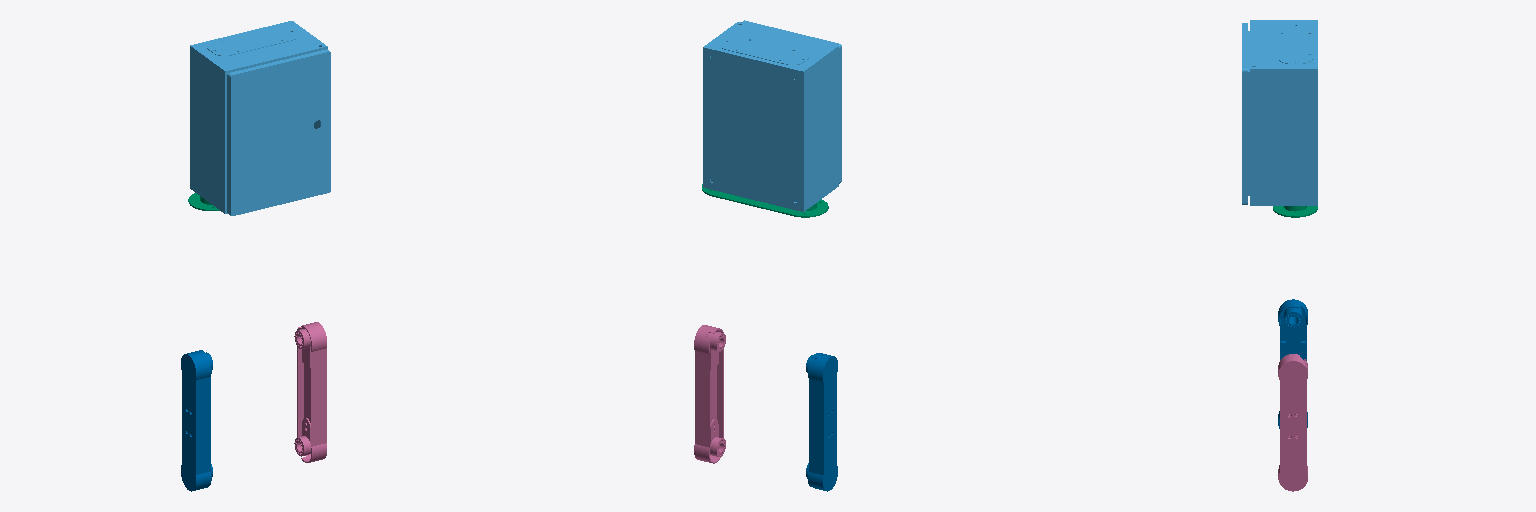
URDF robot description (robot):
<?xml version='1.0' encoding='utf-8'?>
<robot name="robot">
    <link name="imu_link">
        <inertial>
            <origin xyz="-1.5026528643602432e-09 9.498352104841956e-10 1.0161999197677574e-09" rpy="0 0 0" />
            <mass value="4.0212385965949355e-08" />
            <inertia ixx="6.433981754576942e-14" iyy="6.433981754628641e-14" izz="6.43398175467e-14" ixy="-5.169878828456423e-26" iyz="6.462348535569894e-27" ixz="-2.0313346132562858e-29" />
        </inertial>
        <visual name="imu_link_visual">
            <origin xyz="-0.03699100341761863 0.24384999549936293 -0.007599998813926423" rpy="1.5707963267948952 1.5707963267948948 0" />
            <geometry>
                <mesh filename="meshes/imu_link.stl" scale="0.001 0.001 0.001" />
            </geometry>
        </visual>
        <collision name="imu_link_collision">
            <origin xyz="-0.03699100341761863 0.24384999549936293 -0.007599998813926423" rpy="1.5707963267948952 1.5707963267948948 0" />
            <geometry>
                <mesh filename="meshes/imu_link.stl" scale="0.001 0.001 0.001" />
            </geometry>
        </collision>
    </link>
    <link name="torso_link">
        <inertial>
            <origin xyz="0.01593222156183444 -3.145450797484451e-05 0.20663353936107798" rpy="0 0 0" />
            <mass value="11.977159824591427" />
            <inertia ixx="0.24915534005794093" iyy="0.21206568686277028" izz="0.1485094454191971" ixy="0.0016001862485177179" iyz="0.007735516153497295" ixz="0.00012734147855406172" />
        </inertial>
        <visual name="torso_link_visual">
            <origin xyz="-0.06119999999684114 0.25000000191496574 0.000900000000000174" rpy="1.5707963267948968 0 1.5707963267948972" />
            <geometry>
                <mesh filename="meshes/torso_link.stl" scale="0.001 0.001 0.001" />
            </geometry>
        </visual>
        <collision name="torso_link_collision">
            <origin xyz="-0.06119999999684114 0.25000000191496574 0.000900000000000174" rpy="1.5707963267948968 0 1.5707963267948972" />
            <geometry>
                <mesh filename="meshes/torso_link.stl" scale="0.001 0.001 0.001" />
            </geometry>
        </collision>
    </link>
    <link name="pelvis_link">
        <inertial>
            <origin xyz="1.1402650899611848e-10 2.026382982335143e-06 0.0012389964670407039" rpy="0 0 0" />
            <mass value="0.6794274689016202" />
            <inertia ixx="0.0005817195626032596" iyy="0.005653686551697903" izz="0.006193908913931396" ixy="3.946391888010182e-13" iyz="-8.620055385539157e-09" ixz="-4.724706015143538e-13" />
        </inertial>
        <visual name="pelvis_link_visual">
            <origin xyz="0 0 0" rpy="0 0 0" />
            <geometry>
                <mesh filename="meshes/pelvis_link.stl" scale="0.001 0.001 0.001" />
            </geometry>
        </visual>
        <collision name="pelvis_link_collision">
            <origin xyz="0 0 0" rpy="0 0 0" />
            <geometry>
                <mesh filename="meshes/pelvis_link.stl" scale="0.001 0.001 0.001" />
            </geometry>
        </collision>
    </link>
    <link name="l_hip_yaw_link">
        <inertial>
            <origin xyz="-0.00047456822681581523 -0.06506879079027197 0.06050685449757705" rpy="0 0 0" />
            <mass value="4.59759043690152" />
            <inertia ixx="0.02748894534138005" iyy="0.020589110397838364" izz="0.01702790581395454" ixy="5.645423529085669e-05" iyz="0.005720242363571582" ixz="5.5156311640644055e-05" />
        </inertial>
        <visual name="l_hip_yaw_link_visual">
            <origin xyz="3.0660106012461938e-12 -7.660059253566943e-12 0" rpy="3.1415926535897873 0 1.5707963267948961" />
            <geometry>
                <mesh filename="meshes/l_hip_yaw_link.stl" scale="0.001 0.001 0.001" />
            </geometry>
        </visual>
        <collision name="l_hip_yaw_link_collision">
            <origin xyz="3.0660106012461938e-12 -7.660059253566943e-12 0" rpy="3.1415926535897873 0 1.5707963267948961" />
            <geometry>
                <mesh filename="meshes/l_hip_yaw_link.stl" scale="0.001 0.001 0.001" />
            </geometry>
        </collision>
    </link>
    <link name="l_hip_pitch_link">
        <inertial>
            <origin xyz="0.0001750845152306013 0.07153092438325942 -0.021963910412087787" rpy="0 0 0" />
            <mass value="1.5694234274454537" />
            <inertia ixx="0.00224102636839427" iyy="0.0021147367229131867" izz="0.0033828520167634435" ixy="1.6624394674012027e-05" iyz="5.0051102438439566e-05" ixz="1.2029026855222516e-05" />
        </inertial>
        <visual name="l_hip_pitch_link_visual">
            <origin xyz="0 -2.2567192559108663e-11 1.7907776858508836e-11" rpy="-1.570796326794916 0 3.141592653589793" />
            <geometry>
                <mesh filename="meshes/l_hip_pitch_link.stl" scale="0.001 0.001 0.001" />
            </geometry>
        </visual>
        <collision name="l_hip_pitch_link_collision">
            <origin xyz="0 -2.2567192559108663e-11 1.7907776858508836e-11" rpy="-1.570796326794916 0 3.141592653589793" />
            <geometry>
                <mesh filename="meshes/l_hip_pitch_link.stl" scale="0.001 0.001 0.001" />
            </geometry>
        </collision>
    </link>
    <link name="l_thigh_link">
        <inertial>
            <origin xyz="0.012553709214825308 -0.23291562098985508 0.010916161389551907" rpy="0 0 0" />
            <mass value="2.369372553481698" />
            <inertia ixx="0.025084390179226923" iyy="0.002698008734614607" izz="0.026397284292302814" ixy="-0.0023958564512892525" iyz="0.00013543868353942167" ixz="6.514120145757125e-06" />
        </inertial>
        <visual name="l_thigh_link_visual">
            <origin xyz="0.003999999988222269 0 3.807370276831534e-09" rpy="1.5707963267948966 0 1.5707963267949099" />
            <geometry>
                <mesh filename="meshes/l_thigh_link.stl" scale="0.001 0.001 0.001" />
            </geometry>
        </visual>
        <collision name="l_thigh_link_collision">
            <origin xyz="0.003999999988222269 0 3.807370276831534e-09" rpy="1.5707963267948966 0 1.5707963267949099" />
            <geometry>
                <mesh filename="meshes/l_thigh_link.stl" scale="0.001 0.001 0.001" />
            </geometry>
        </collision>
    </link>
    <link name="l_shank_link">
        <inertial>
            <origin xyz="0.00026146220509067785 -0.15088709692723135 -0.03709591562452564" rpy="0 0 0" />
            <mass value="1.096633510267543" />
            <inertia ixx="0.010155164112291393" iyy="0.0004785159565456748" izz="0.010305891816942137" ixy="3.838883513556952e-06" iyz="-2.3899250245208547e-05" ixz="1.1489190133089684e-06" />
        </inertial>
        <visual name="l_shank_link_visual">
            <origin xyz="-1.1777419040015502e-11 0 3.616717130228153e-09" rpy="3.141592653589643 0 1.5707963267948968" />
            <geometry>
                <mesh filename="meshes/l_shank_link.stl" scale="0.001 0.001 0.001" />
            </geometry>
        </visual>
        <collision name="l_shank_link_collision">
            <origin xyz="-1.1777419040015502e-11 0 3.616717130228153e-09" rpy="3.141592653589643 0 1.5707963267948968" />
            <geometry>
                <mesh filename="meshes/l_shank_link.stl" scale="0.001 0.001 0.001" />
            </geometry>
        </collision>
    </link>
    <link name="l_ankle_link">
        <inertial>
            <origin xyz="0.0027808433286506213 0.023304363058726345 -0.0001717188189263652" rpy="0 0 0" />
            <mass value="1.5821847782034173" />
            <inertia ixx="0.0021288819653358937" iyy="0.0034820066103026237" izz="0.0023408328144144674" ixy="5.000866856317166e-05" iyz="1.2046304114304883e-05" ixz="-1.8271438666140506e-05" />
        </inertial>
        <visual name="l_ankle_link_visual">
            <origin xyz="0.07402716563147126 0.00900000361667887 3.742988451506335e-05" rpy="0 -1.5707963267947658 0" />
            <geometry>
                <mesh filename="meshes/l_ankle_link.stl" scale="0.001 0.001 0.001" />
            </geometry>
        </visual>
        <collision name="l_ankle_link_collision">
            <origin xyz="0.07402716563147126 0.00900000361667887 3.742988451506335e-05" rpy="0 -1.5707963267947658 0" />
            <geometry>
                <mesh filename="meshes/l_ankle_link.stl" scale="0.001 0.001 0.001" />
            </geometry>
        </collision>
    </link>
    <link name="l_foot_link">
        <inertial>
            <origin xyz="0.013580536543132888 0.0005512383333787874 0.016498509460245715" rpy="0 0 0" />
            <mass value="1.9784795442649168" />
            <inertia ixx="0.005536557019526711" iyy="0.006565687681847621" izz="0.005425303439420534" ixy="-6.310050487873506e-06" iyz="3.543231174644346e-05" ixz="0.0011191734839326715" />
        </inertial>
        <visual name="l_foot_link_visual">
            <origin xyz="0.00019999563147128364 3.616678903028969e-09 -1.1548493716873054e-10" rpy="1.5707963267948957 0 -1.570796326794889" />
            <geometry>
                <mesh filename="meshes/l_foot_link.stl" scale="0.001 0.001 0.001" />
            </geometry>
        </visual>
        <collision name="l_foot_link_collision">
            <origin xyz="0.00019999563147128364 3.616678903028969e-09 -1.1548493716873054e-10" rpy="1.5707963267948957 0 -1.570796326794889" />
            <geometry>
                <mesh filename="meshes/l_foot_link.stl" scale="0.001 0.001 0.001" />
            </geometry>
        </collision>
    </link>
    <link name="r_hip_yaw_link">
        <inertial>
            <origin xyz="0.0004745682329473446 0.06506879070310788 0.0605068544975713" rpy="0 0 0" />
            <mass value="4.597590436901953" />
            <inertia ixx="0.027488945309262214" iyy="0.020589110397839276" izz="0.017027905781836702" ixy="5.6454235138418324e-05" iyz="-0.005720242378940415" ixz="-5.515631164040424e-05" />
        </inertial>
        <visual name="r_hip_yaw_link_visual">
            <origin xyz="3.0661233181081187e-12 -7.659224365852424e-12 0" rpy="-3.1415926535897865 0 -1.570796326794897" />
            <geometry>
                <mesh filename="meshes/r_hip_yaw_link.stl" scale="0.001 0.001 0.001" />
            </geometry>
        </visual>
        <collision name="r_hip_yaw_link_collision">
            <origin xyz="3.0661233181081187e-12 -7.659224365852424e-12 0" rpy="-3.1415926535897865 0 -1.570796326794897" />
            <geometry>
                <mesh filename="meshes/r_hip_yaw_link.stl" scale="0.001 0.001 0.001" />
            </geometry>
        </collision>
    </link>
    <link name="r_hip_pitch_link">
        <inertial>
            <origin xyz="0.0001726520246478991 -0.07292043829718715 -0.021963910441858876" rpy="0 0 0" />
            <mass value="1.5694238131593665" />
            <inertia ixx="0.0022531266518003926" iyy="0.002114738320472452" izz="0.003394953837820368" ixy="1.8141175270446758e-05" iyz="-4.1538693559326826e-05" ixz="1.2112879820375563e-05" />
        </inertial>
        <visual name="r_hip_pitch_link_visual">
            <origin xyz="0 7.247997757531266e-12 -1.1777870345675014e-11" rpy="-1.5707963267948841 0 0" />
            <geometry>
                <mesh filename="meshes/r_hip_pitch_link.stl" scale="0.001 0.001 0.001" />
            </geometry>
        </visual>
        <collision name="r_hip_pitch_link_collision">
            <origin xyz="0 7.247997757531266e-12 -1.1777870345675014e-11" rpy="-1.5707963267948841 0 0" />
            <geometry>
                <mesh filename="meshes/r_hip_pitch_link.stl" scale="0.001 0.001 0.001" />
            </geometry>
        </collision>
    </link>
    <link name="r_thigh_link">
        <inertial>
            <origin xyz="0.01163332958878565 -0.23291562099188162 -0.010916161389551711" rpy="0 0 0" />
            <mass value="2.3693725534819126" />
            <inertia ixx="0.025084390180051763" iyy="0.002735488891620081" izz="0.026434764450132986" ixy="-0.002577056099032181" iyz="-0.00013543868358914467" ixz="3.4205982136662436e-06" />
        </inertial>
        <visual name="r_thigh_link_visual">
            <origin xyz="0.003999999988222269 0 -3.807370276831534e-09" rpy="-1.5707963267948966 0 1.5707963267949099" />
            <geometry>
                <mesh filename="meshes/r_thigh_link.stl" scale="0.001 0.001 0.001" />
            </geometry>
        </visual>
        <collision name="r_thigh_link_collision">
            <origin xyz="0.003999999988222269 0 -3.807370276831534e-09" rpy="-1.5707963267948966 0 1.5707963267949099" />
            <geometry>
                <mesh filename="meshes/r_thigh_link.stl" scale="0.001 0.001 0.001" />
            </geometry>
        </collision>
    </link>
    <link name="r_shank_link">
        <inertial>
            <origin xyz="0.00026146220509239983 -0.1508870969272305 0.03709591562452065" rpy="0 0 0" />
            <mass value="1.0966335102675413" />
            <inertia ixx="0.010155164112315707" iyy="0.00047851595652267237" izz="0.010305891816943413" ixy="3.838883513223451e-06" iyz="2.389925024517958e-05" ixz="-1.1489190133404608e-06" />
        </inertial>
        <visual name="r_shank_link_visual">
            <origin xyz="-1.1777419040015502e-11 0 -3.616717130228153e-09" rpy="-3.141592653589643 0 1.5707963267948968" />
            <geometry>
                <mesh filename="meshes/r_shank_link.stl" scale="0.001 0.001 0.001" />
            </geometry>
        </visual>
        <collision name="r_shank_link_collision">
            <origin xyz="-1.1777419040015502e-11 0 -3.616717130228153e-09" rpy="-3.141592653589643 0 1.5707963267948968" />
            <geometry>
                <mesh filename="meshes/r_shank_link.stl" scale="0.001 0.001 0.001" />
            </geometry>
        </collision>
    </link>
    <link name="r_ankle_link">
        <inertial>
            <origin xyz="0.004155641520986955 0.02330436305872695 0.000176119931110037" rpy="0 0 0" />
            <mass value="1.5821847782032865" />
            <inertia ixx="0.0021288797440784935" iyy="0.003466319534321527" izz="0.002325147959690615" ixy="5.8591849147256615e-05" iyz="-1.1993435422907835e-05" ixz="-1.6541073283192516e-05" />
        </inertial>
        <visual name="r_ankle_link_visual">
            <origin xyz="0.07397279406218389 0.009000003616681962 3.74061604505016e-05" rpy="0 1.5707963267948422 0" />
            <geometry>
                <mesh filename="meshes/r_ankle_link.stl" scale="0.001 0.001 0.001" />
            </geometry>
        </visual>
        <collision name="r_ankle_link_collision">
            <origin xyz="0.07397279406218389 0.009000003616681962 3.74061604505016e-05" rpy="0 1.5707963267948422 0" />
            <geometry>
                <mesh filename="meshes/r_ankle_link.stl" scale="0.001 0.001 0.001" />
            </geometry>
        </collision>
    </link>
    <link name="r_foot_link">
        <inertial>
            <origin xyz="0.013583180362856488 -0.0005512311000183346 -0.01650214071706941" rpy="0 0 0" />
            <mass value="1.9784795442649097" />
            <inertia ixx="0.00553720070088648" iyy="0.0065661485027541655" izz="0.005425120578966984" ixy="6.307189630936237e-06" iyz="3.5436249377760904e-05" ixz="-0.0011190654959026282" />
        </inertial>
        <visual name="r_foot_link_visual">
            <origin xyz="0.00020000406218381172 3.616682047180575e-09 -3.839549549411459e-09" rpy="-1.5707963267948892 0 1.5707963267949696" />
            <geometry>
                <mesh filename="meshes/r_foot_link.stl" scale="0.001 0.001 0.001" />
            </geometry>
        </visual>
        <collision name="r_foot_link_collision">
            <origin xyz="0.00020000406218381172 3.616682047180575e-09 -3.839549549411459e-09" rpy="-1.5707963267948892 0 1.5707963267949696" />
            <geometry>
                <mesh filename="meshes/r_foot_link.stl" scale="0.001 0.001 0.001" />
            </geometry>
        </collision>
    </link>
    

    <joint name="pelvis_link_torso_joint" type="fixed">
        <origin xyz="-7.659717486428201e-12 -0.0004999999969337935 0.015" rpy="0 0 -1.570796326794897" />
        <parent link="pelvis_link" />
        <child link="torso_link" />
    </joint>
    <joint name="pelvis_link_l_yaw_joint" type="revolute">
        <origin xyz="0.11999999999233989 3.066148575681922e-12 -0.012" rpy="-3.1415926535897754 0 -1.570796326794897" />
        <parent link="pelvis_link" />
        <child link="l_hip_yaw_link" />
        <axis xyz="0 0 1.0" />
        <limit lower="-0.523599" upper="0.523599" effort="1000000" velocity="1000000" />
    </joint>
    <joint name="pelvis_link_r_yaw_joint" type="revolute">
        <origin xyz="-0.12000000000765933 3.0662609857631655e-12 -0.012" rpy="-3.1415926535897754 0 -1.570796326794897" />
        <parent link="pelvis_link" />
        <child link="r_hip_yaw_link" />
        <axis xyz="0 0 -1.0" />
        <limit lower="-0.523599" upper="0.523599" effort="1000000" velocity="1000000" />
    </joint>
    <joint name="l_hip_yaw_link_l_pitch_joint" type="revolute">
        <origin xyz="0 -0.07499999999999755 0.13630000000000136" rpy="0 1.5707963267948786 0" />
        <parent link="l_hip_yaw_link" />
        <child link="l_hip_pitch_link" />
        <axis xyz="0 1.0 0" />
        <limit lower="-0.698132" upper="1.047198" effort="1000000" velocity="1000000" />
    </joint>
    <joint name="r_hip_yaw_link_r_pitch_joint" type="revolute">
        <origin xyz="0 0.07500000000000245 0.13629999999999867" rpy="0 1.5707963267948786 0" />
        <parent link="r_hip_yaw_link" />
        <child link="r_hip_pitch_link" />
        <axis xyz="0 1.0 0" />
        <limit lower="-0.698132" upper="1.047198" effort="1000000" velocity="1000000" />
    </joint>
    <joint name="l_hip_pitch_link_l_roll_joint" type="revolute">
        <origin xyz="0 0.075 0.0012999999999999908" rpy="-1.5707963267948966 -1.5707963267948963 0" />
        <parent link="l_hip_pitch_link" />
        <child link="l_thigh_link" />
        <axis xyz="1.0 0 0" />
        <limit lower="-0.436332" upper="0.436332" effort="1000000" velocity="1000000" />
    </joint>
    <joint name="r_hip_pitch_link_r_roll_joint" type="revolute">
        <origin xyz="0 -0.075 0.0013000000000000093" rpy="-1.5707963267948966 -1.5707963267948963 0" />
        <parent link="r_hip_pitch_link" />
        <child link="r_thigh_link" />
        <axis xyz="-1.0 0 0" />
        <limit lower="-0.436332" upper="0.436332" effort="1000000" velocity="1000000" />
    </joint>
    <joint name="l_thigh_link_l_knee_joint" type="revolute">
        <origin xyz="0.003499999999999997 -0.3 -0.013000000000000008" rpy="0 0 0" />
        <parent link="l_thigh_link" />
        <child link="l_shank_link" />
        <axis xyz="0 0 -1.0" />
        <limit lower="0.0" upper="2.094395" effort="1000000" velocity="1000000" />
    </joint>
    <joint name="r_thigh_link_r_knee_joint" type="revolute">
        <origin xyz="0.0035000000000000027 -0.3 0.013000000000000008" rpy="0 0 0" />
        <parent link="r_thigh_link" />
        <child link="r_shank_link" />
        <axis xyz="0 0 -1.0" />
        <limit lower="0.0" upper="2.094395" effort="1000000" velocity="1000000" />
    </joint>
    <joint name="l_shank_link_l_ankle_joint" type="revolute">
        <origin xyz="0 -0.3 0" rpy="1.5707963267948968 0 0" />
        <parent link="l_shank_link" />
        <child link="l_ankle_link" />
        <axis xyz="0 1.0 0" />
        <limit lower="-0.610865" upper="0.610865" effort="1000000" velocity="1000000" />
    </joint>
    <joint name="r_shank_link_r_ankle_joint" type="revolute">
        <origin xyz="0 -0.3 0" rpy="-1.5707963267948966 0 0" />
        <parent link="r_shank_link" />
        <child link="r_ankle_link" />
        <axis xyz="0 -1.0 0" />
        <limit lower="-0.610865" upper="0.610865" effort="1000000" velocity="1000000" />
    </joint>
    <joint name="l_ankle_link_l_foot_joint" type="revolute">
        <origin xyz="0.07402717 0.009000000000000005 3.743000000000052e-05" rpy="0 0 0" />
        <parent link="l_ankle_link" />
        <child link="l_foot_link" />
        <axis xyz="1.0 0 0" />
        <limit lower="-0.349066" upper="0.349066" effort="1000000" velocity="1000000" />
    </joint>
    <joint name="r_ankle_link_r_foot_joint" type="revolute">
        <origin xyz="0.07397279 0.009000000000000005 3.7410000000051014e-05" rpy="0 0 0" />
        <parent link="r_ankle_link" />
        <child link="r_foot_link" />
        <axis xyz="-1.0 0 0" />
        <limit lower="-0.349066" upper="0.349066" effort="1000000" velocity="1000000" />
    </joint>
    <joint name="torso_link_imu_joint" type="fixed">
        <origin xyz="-0.008200000000000002 0.03699099999999994 0.22879999" rpy="0 -1.5707963267948963 0" />
        <parent link="torso_link" />
        <child link="imu_link" />
    </joint>
</robot>

--- What the picture shows (computed from the rendered views, not written in the file) ---
Views: 3 orthographic renders of the robot side by side, from view 1: azimuth 30°, elevation 25°; view 2: azimuth 150°, elevation 25°; view 3: azimuth 270°, elevation 25°.
Model robot with 15 links and 14 joints (12 revolute, 2 fixed), rooted at pelvis_link, posed every joint at zero.
Visible links, largest first — view 1: torso_link, l_shank_link, r_shank_link; view 2: torso_link, l_shank_link, r_shank_link, pelvis_link; view 3: torso_link, l_shank_link, r_shank_link.
Boxes of the visible links, left/top/right/bottom form: torso_link: left=190, top=21, right=330, bottom=215; l_shank_link: left=294, top=322, right=326, bottom=462; r_shank_link: left=181, top=350, right=212, bottom=491; torso_link: left=703, top=20, right=841, bottom=211; l_shank_link: left=694, top=325, right=725, bottom=463; r_shank_link: left=806, top=353, right=837, bottom=491; pelvis_link: left=702, top=184, right=828, bottom=217; torso_link: left=1242, top=20, right=1317, bottom=205; l_shank_link: left=1278, top=354, right=1307, bottom=491; r_shank_link: left=1278, top=299, right=1307, bottom=428.
Bounding box of the posed robot: 0.3901 × 0.2022 × 1.21 m (x, y, z).
Meshes: 15 distinct files referenced, 11 mesh visuals loaded (11 binary STL); not drawn: 4 (reference not matched to a file when rendering).
